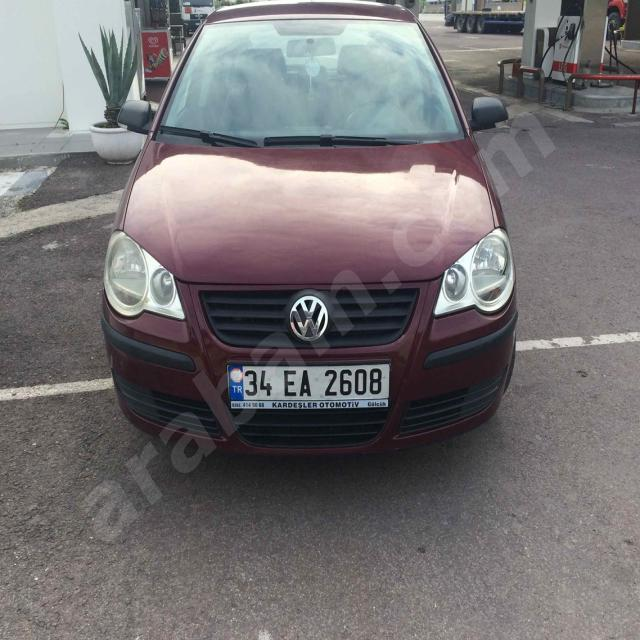license_plate: (228, 362, 390, 402)
